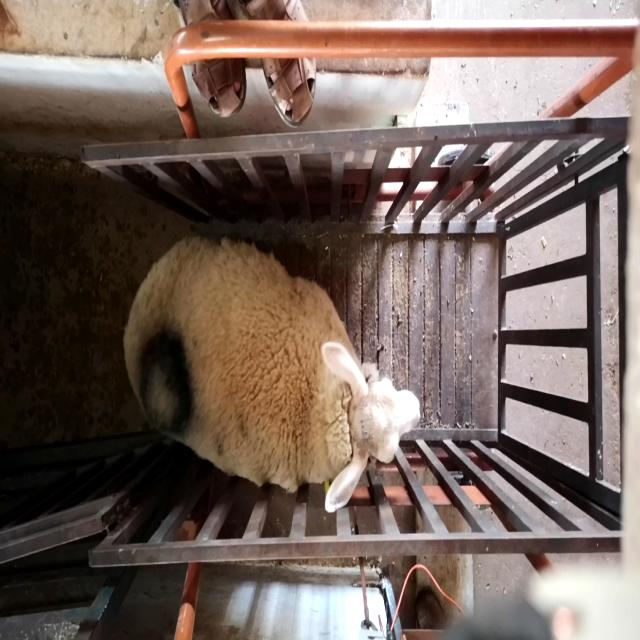sheep: (122, 235, 421, 514)
